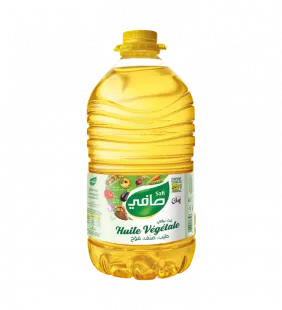Promotion: (76, 20, 204, 291)
